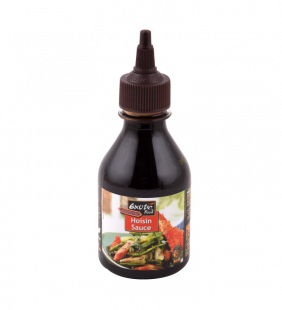EXOTIC FOOD: (92, 24, 197, 285)
